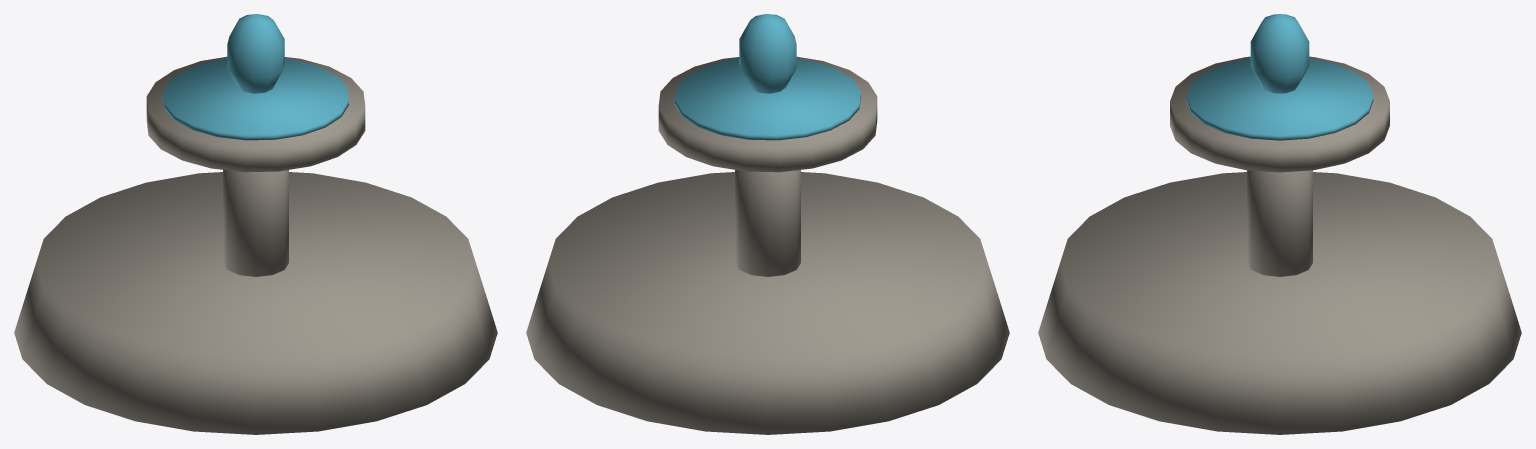
File: fountain.glb
The picture shows the model from 3 angles, left to right: view 1: azimuth 30°, elevation 25°; view 2: azimuth 150°, elevation 25°; view 3: azimuth 270°, elevation 25°; orthographic projection.
Visible parts, largest first — view 1: fountain; view 2: fountain; view 3: fountain.
Part boxes in pixels (left/top/right/bottom): fountain: left=14, top=14, right=497, bottom=434; fountain: left=526, top=14, right=1009, bottom=434; fountain: left=1038, top=14, right=1521, bottom=434.
Size of the model in its own units: 4.4 by 3.2 by 4.4.
